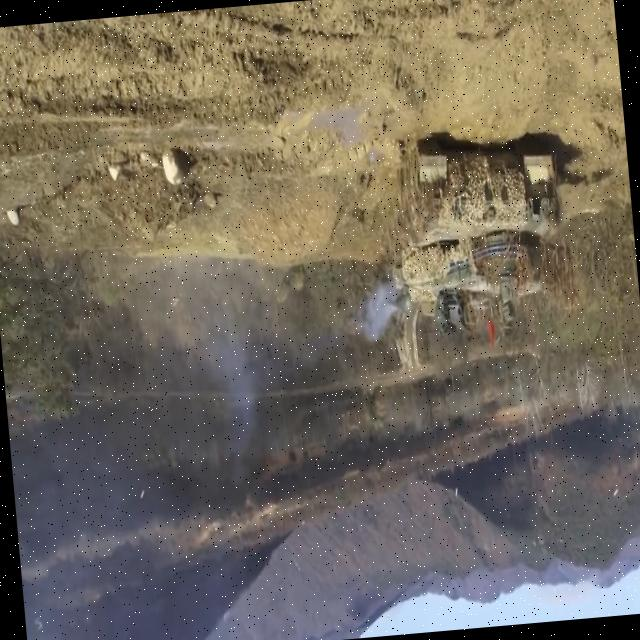korea tank: (326, 122, 580, 349)
